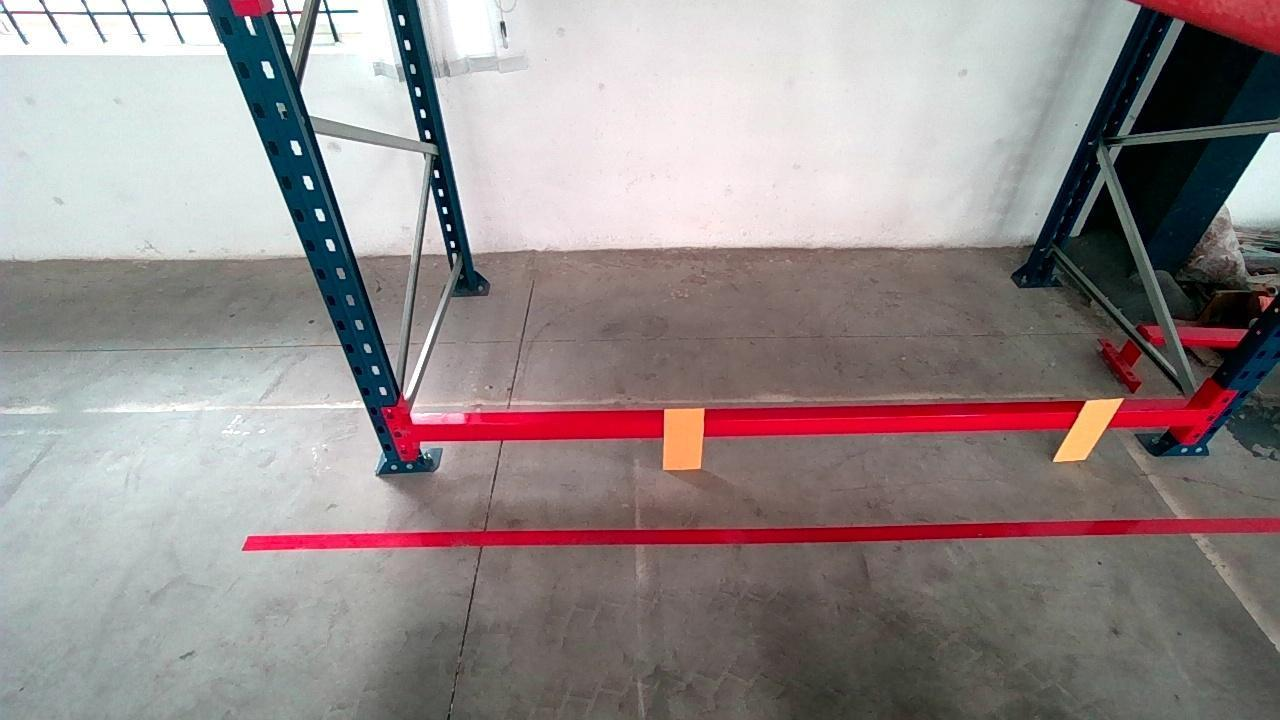h_rack: (416, 408, 1207, 440)
orange_strip: (1053, 398, 1125, 461), (664, 406, 704, 469)
red_line: (247, 513, 1280, 549)
